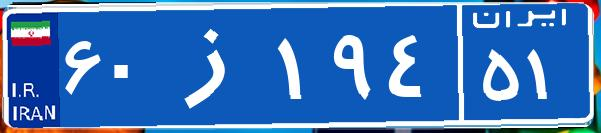0: (110, 28, 158, 105)
1: (273, 28, 330, 110), (525, 38, 570, 115)
4: (385, 28, 445, 110)
5: (475, 38, 525, 113)
6: (57, 26, 110, 107)
9: (330, 28, 385, 110)
ز: (158, 15, 273, 115)
